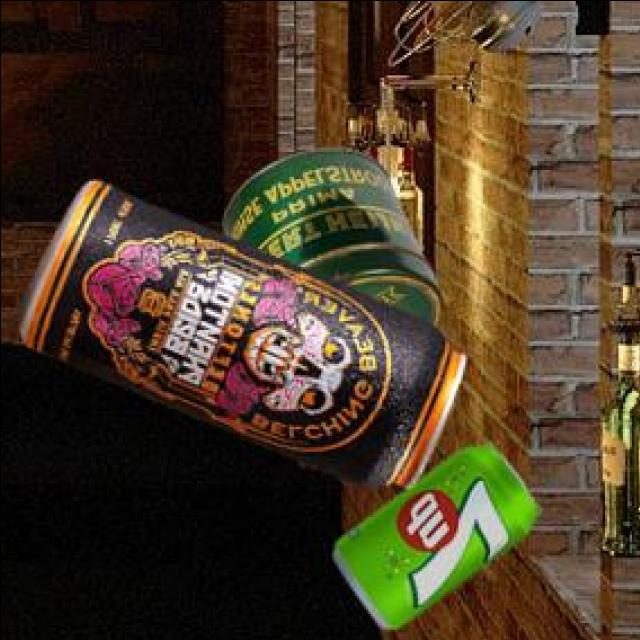logam: (15, 184, 461, 490), (220, 150, 438, 330), (332, 445, 537, 632)
